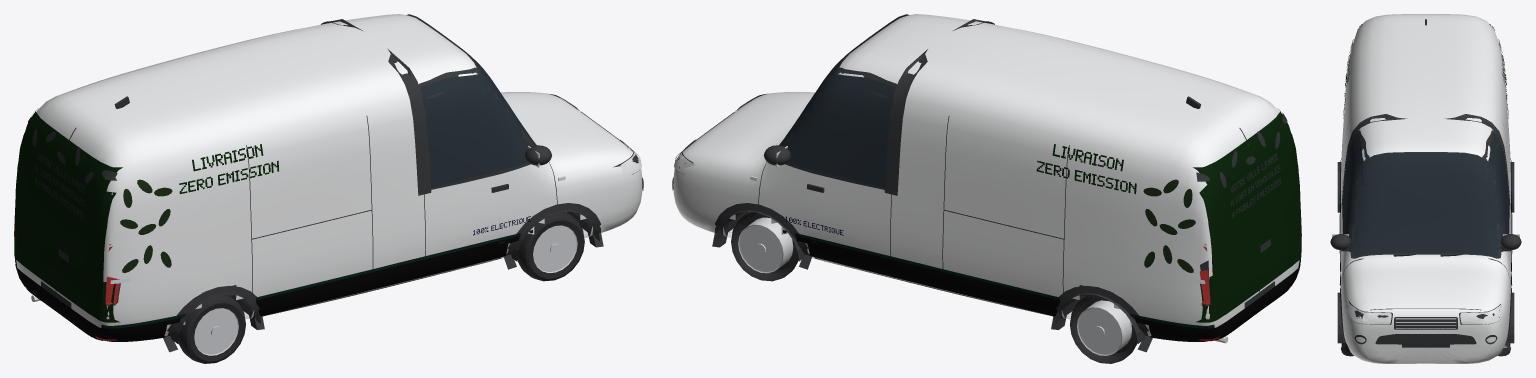
File: livr_expr.glb
3 views of the same model, side by side, from view 1: azimuth 30°, elevation 25°; view 2: azimuth 150°, elevation 25°; view 3: azimuth 270°, elevation 25° (orthographic). The views are drawn at different scales.
Visible parts, largest first — view 1: Body, LeRearGreen, Glass-1, LeSill-1, WheelRR, WheelFR, Bpillar-1, LeRearSill, LeTeal-1, ArchTrim-1, ArchTrim-1.001, WinFrame-1 (+1 smaller); view 2: Body, LeRearGreen, Glass1, LeSill1, WheelFL, WheelRL, Bpillar1, ArchTrim1, LeTeal1, LeRearSill, ArchTrim1.001, WinFrame1 (+1 smaller); view 3: Body, Windshield, Glass1, Glass-1, Intake, HeadReflector, Grille, WsFrame, Bpillar1, Bpillar-1, HeadBezel, Mirror1 (+7 smaller).
Part boxes in pixels (x1,y1,x2,y2): Body: [16, 14, 642, 335]; LeRearGreen: [14, 108, 122, 322]; Glass-1: [420, 74, 536, 187]; LeSill-1: [93, 236, 520, 341]; WheelRR: [178, 294, 245, 363]; WheelFR: [517, 212, 584, 281]; Bpillar-1: [387, 48, 431, 195]; LeRearSill: [15, 264, 115, 340]; LeTeal-1: [101, 230, 532, 328]; ArchTrim-1: [504, 203, 603, 269]; ArchTrim-1.001: [163, 285, 264, 352]; WinFrame-1: [418, 67, 532, 189]; Body: [673, 14, 1299, 335]; LeRearGreen: [1193, 109, 1301, 322]; Glass1: [779, 74, 895, 187]; LeSill1: [795, 236, 1222, 341]; WheelFL: [731, 212, 798, 281]; WheelRL: [1070, 294, 1137, 363]; Bpillar1: [884, 49, 927, 195]; ArchTrim1: [712, 203, 811, 269]; LeTeal1: [783, 230, 1214, 328]; LeRearSill: [1195, 264, 1300, 341]; ArchTrim1.001: [1051, 285, 1152, 352]; WinFrame1: [785, 67, 897, 189]; Body: [1341, 14, 1510, 363]; Windshield: [1353, 152, 1498, 256]; Glass1: [1477, 132, 1509, 250]; Glass-1: [1342, 132, 1371, 250]; Intake: [1375, 334, 1476, 344]; HeadReflector: [1347, 304, 1503, 324]; Grille: [1394, 317, 1457, 329]; WsFrame: [1350, 152, 1501, 258]; Bpillar1: [1445, 114, 1510, 208]; Bpillar-1: [1341, 114, 1406, 208]; HeadBezel: [1348, 300, 1500, 324]; Mirror1: [1501, 234, 1521, 249].
Size of the model in its own units: 5.62 by 2.34 by 2.15.
